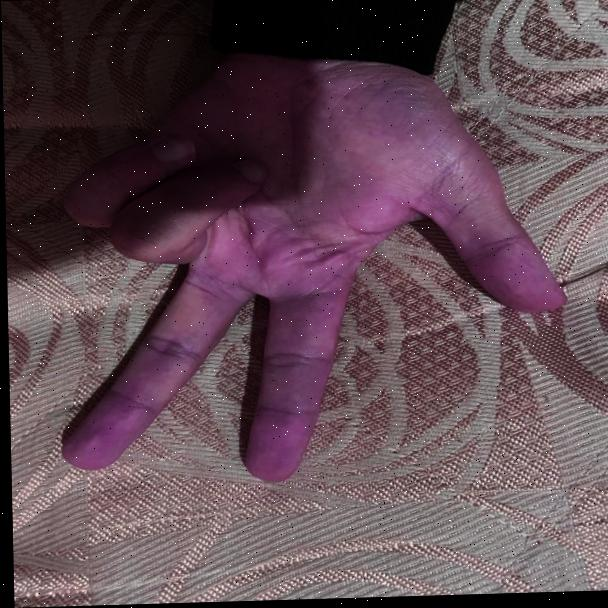three: (48, 94, 558, 492)
